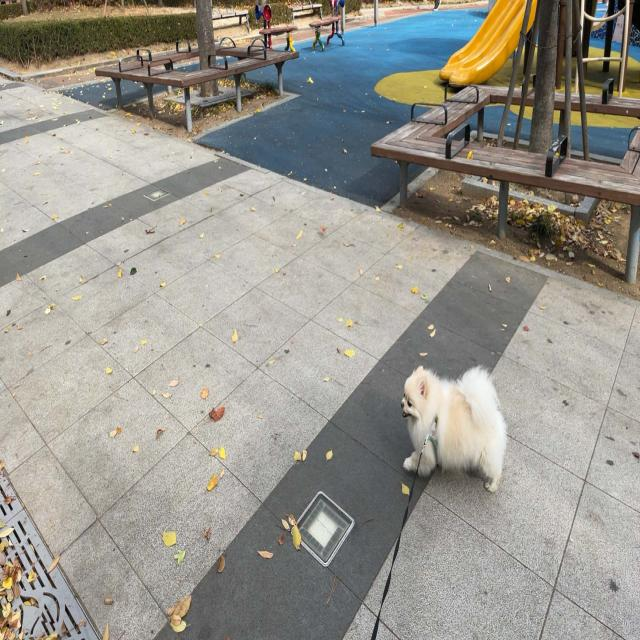Dog: (402, 366, 506, 491)
